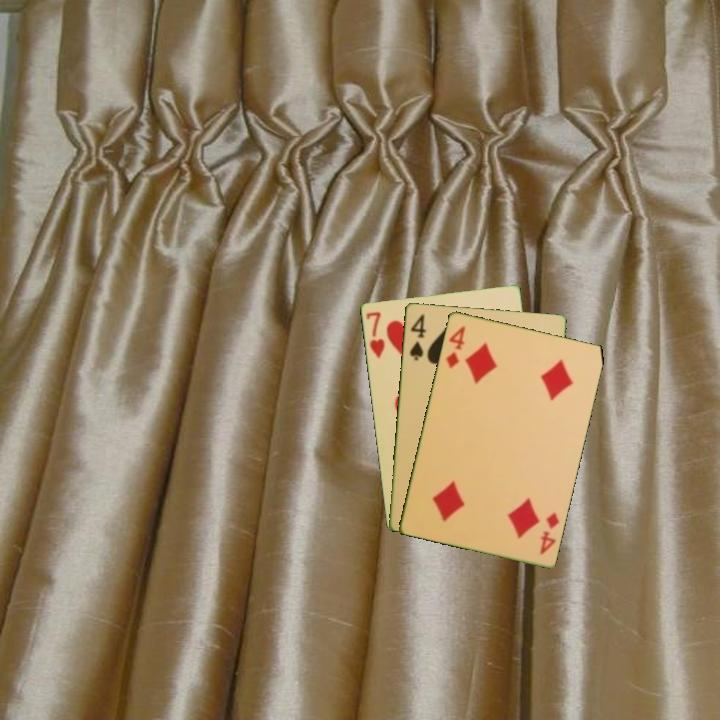4d: (442, 322, 468, 371), (536, 509, 562, 558)
4s: (406, 310, 429, 363)
7h: (363, 308, 387, 361)
